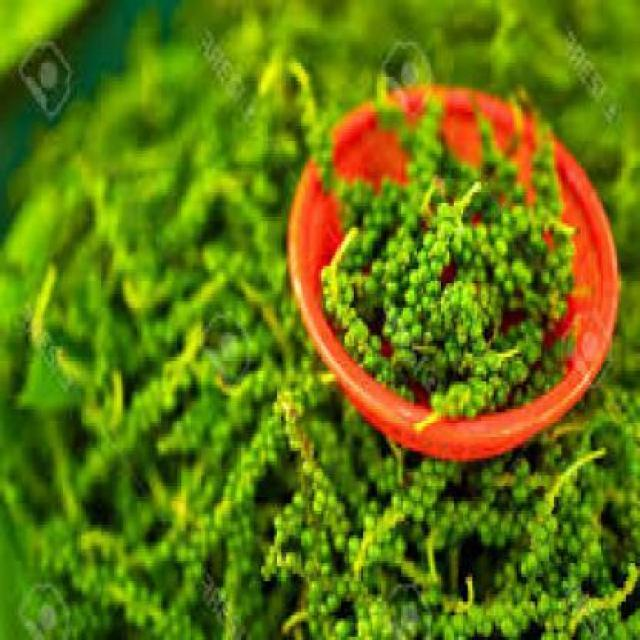UNRIPE: (354, 473, 454, 570)
